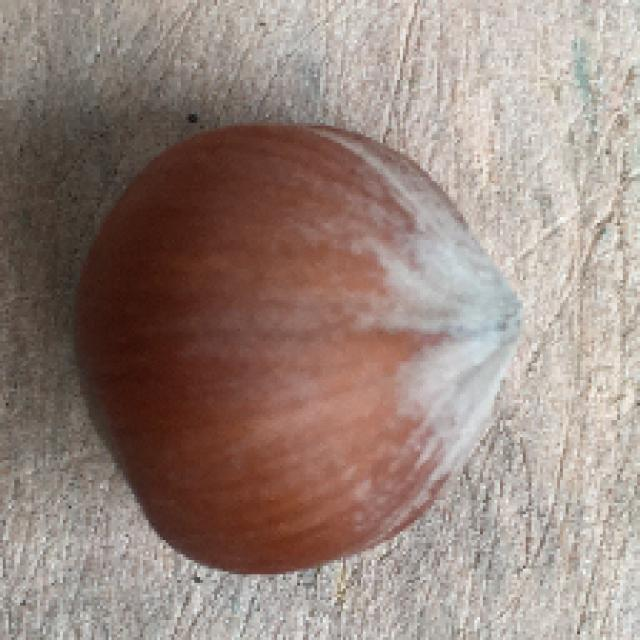qualityHazelnut: (59, 110, 534, 576)
